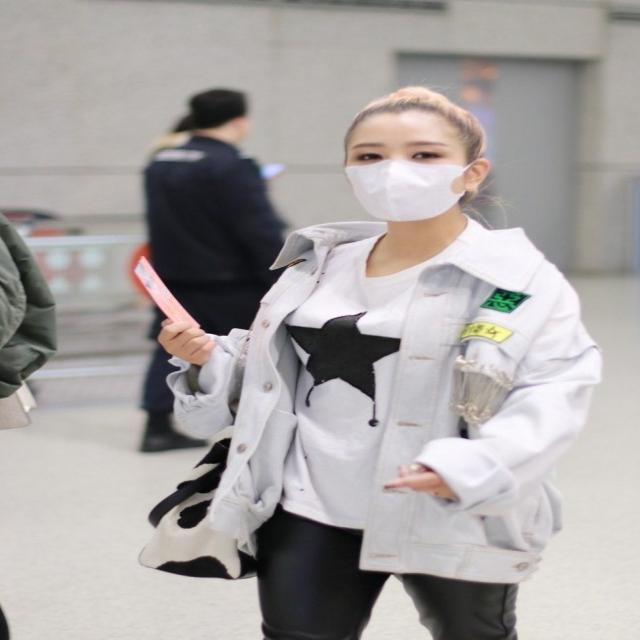mask: (346, 103, 464, 221)
